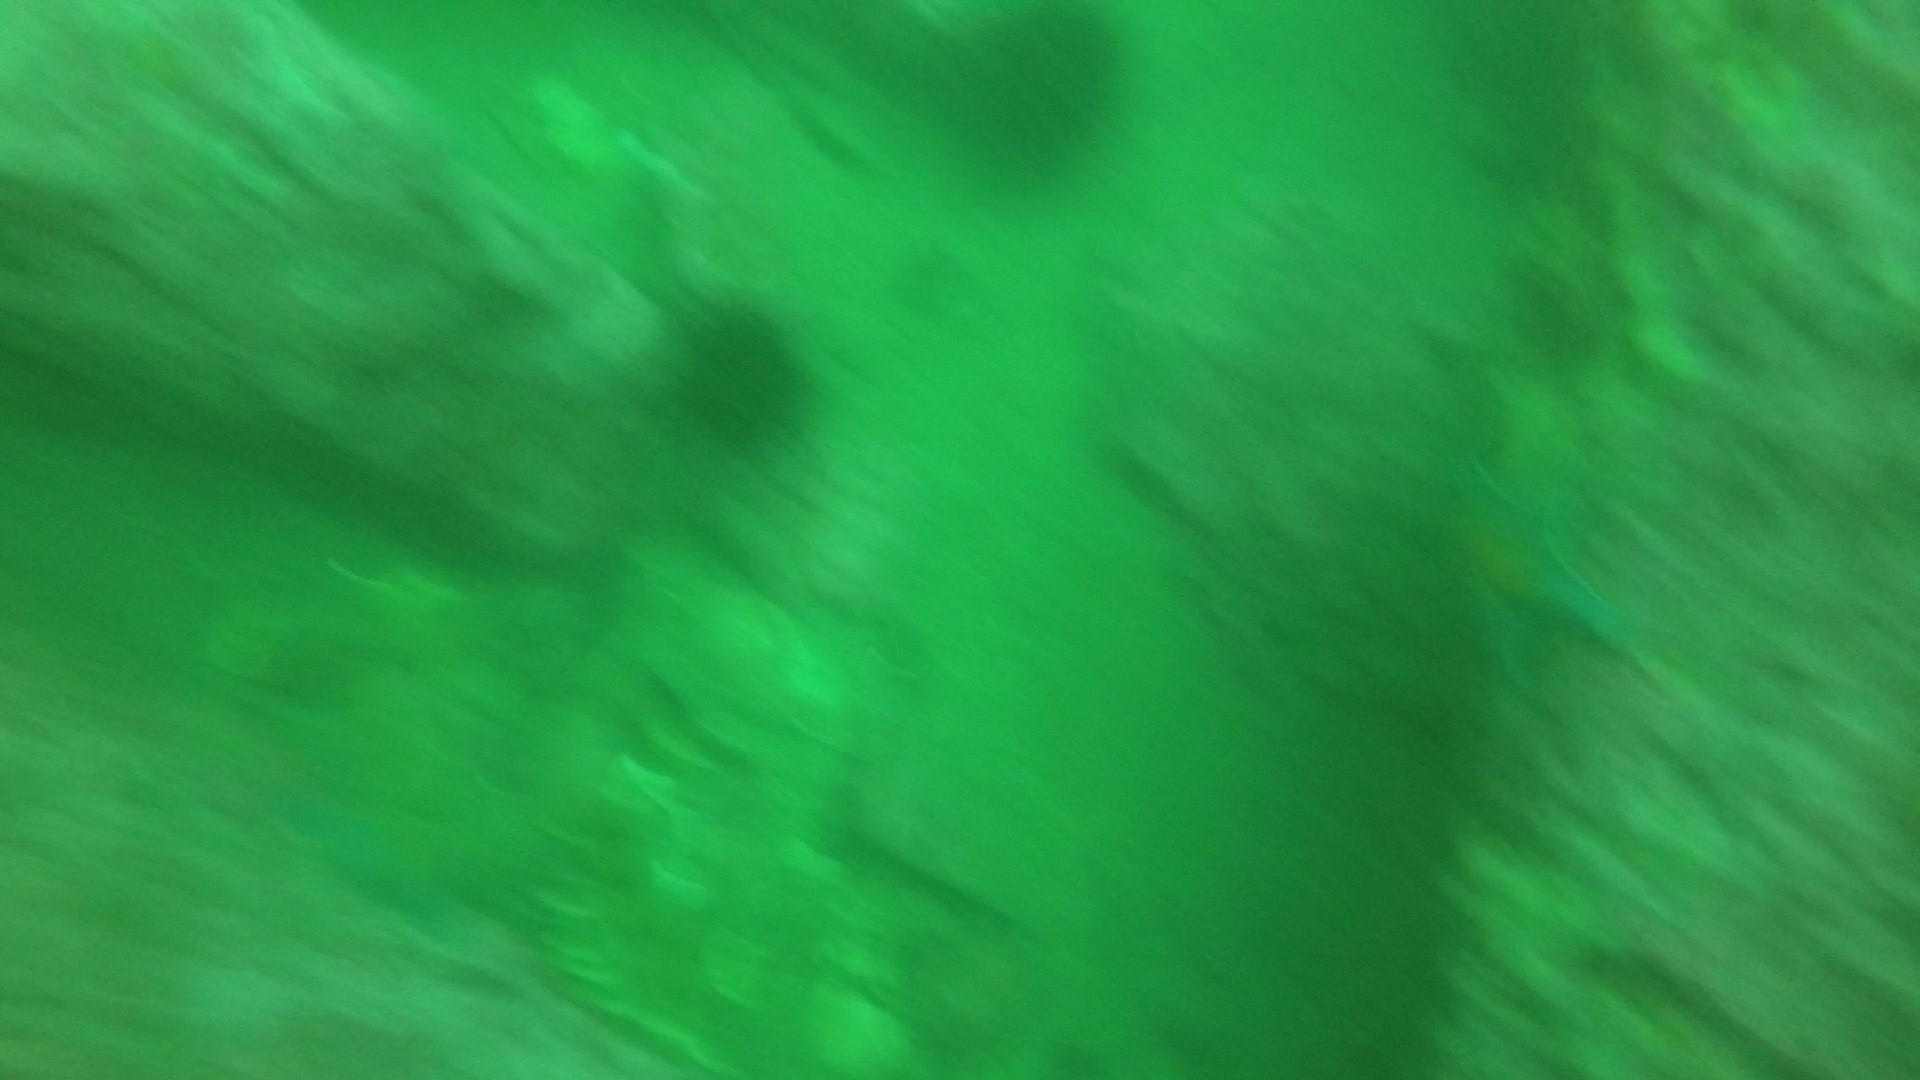echinus: (927, 4, 1137, 193), (661, 291, 822, 458)
starfish: (1423, 454, 1654, 691)
